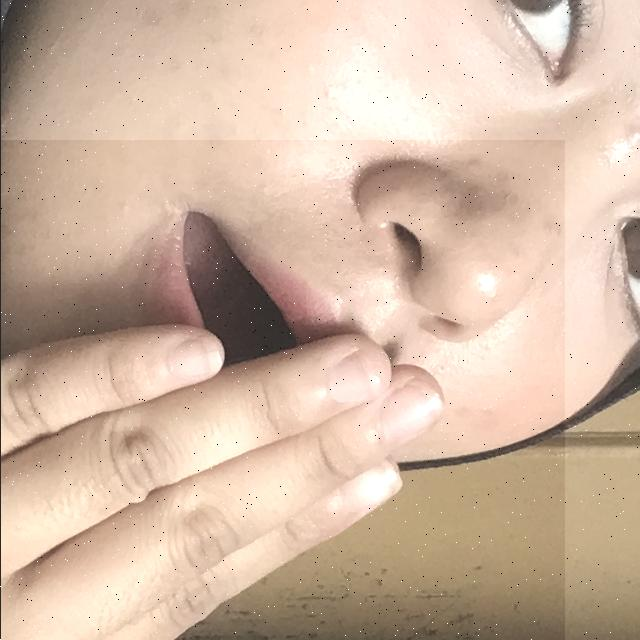ngantuk: (0, 140, 564, 640)
